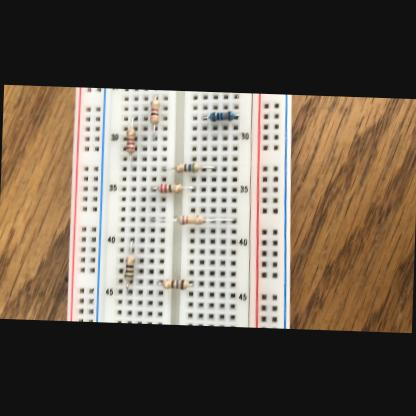breadboard: (69, 86, 299, 328)
resistor: (209, 110, 235, 122), (162, 278, 188, 290), (174, 160, 200, 172), (125, 256, 137, 280), (149, 98, 160, 124), (178, 214, 204, 225), (126, 127, 137, 152), (158, 182, 182, 193)
wire: (205, 216, 236, 222), (150, 216, 176, 221), (128, 154, 135, 170), (201, 165, 217, 170), (131, 116, 137, 128), (127, 281, 132, 294), (130, 238, 134, 254), (152, 123, 156, 139), (182, 186, 195, 190), (162, 166, 174, 170), (201, 115, 209, 119), (157, 279, 162, 284), (151, 186, 156, 190), (236, 113, 240, 117), (154, 94, 158, 98), (190, 282, 193, 286)
